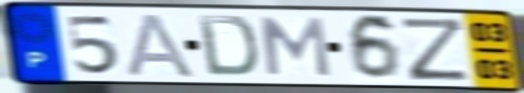5: (63, 14, 122, 76)
6: (344, 12, 405, 85)
A: (125, 11, 199, 79)
D: (195, 13, 261, 79)
M: (257, 15, 334, 79)
Z: (397, 15, 472, 82)
